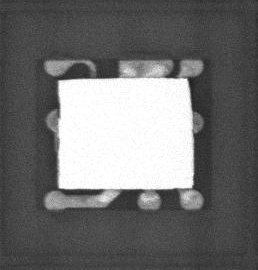DIE_BROKEN: (57, 93, 63, 155), (184, 77, 193, 99)
